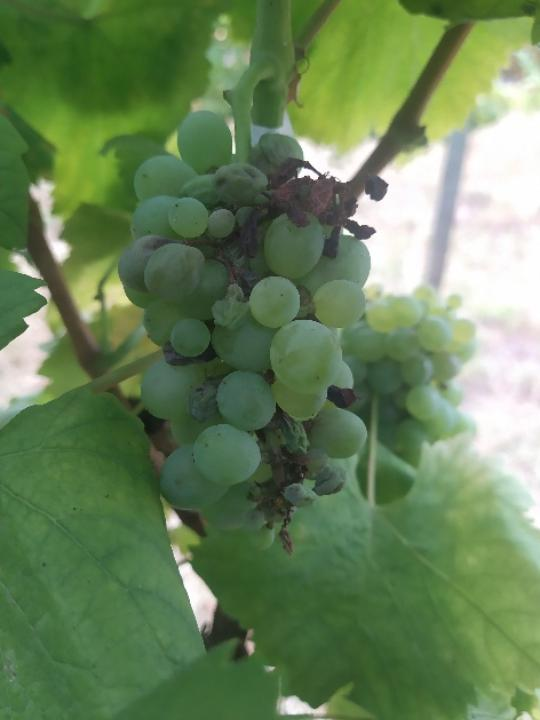grape: (117, 108, 389, 560)
